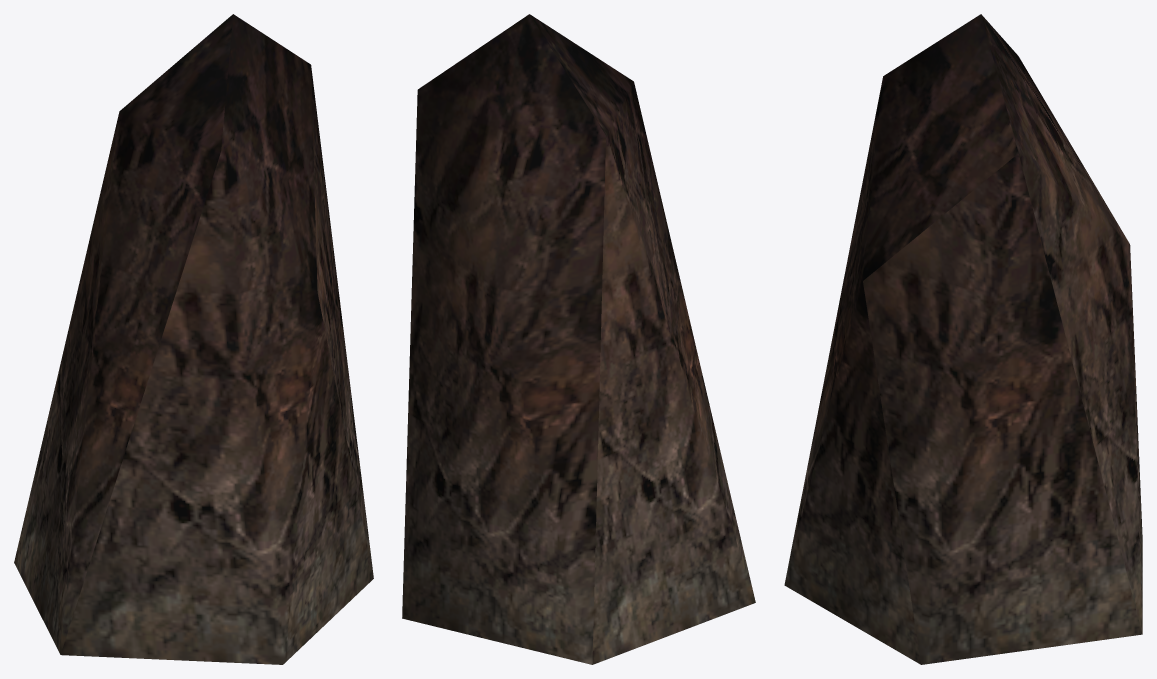
Rendered from burningsteppesboulders04.glb.
3 renders of one model, left to right at view 1: azimuth 30°, elevation 25°; view 2: azimuth 150°, elevation 25°; view 3: azimuth 270°, elevation 25°, orthographic. The views are drawn at different scales.
Size of the model in its own units: 2.07 by 3.6 by 1.97.
1 material, 1 textured.
